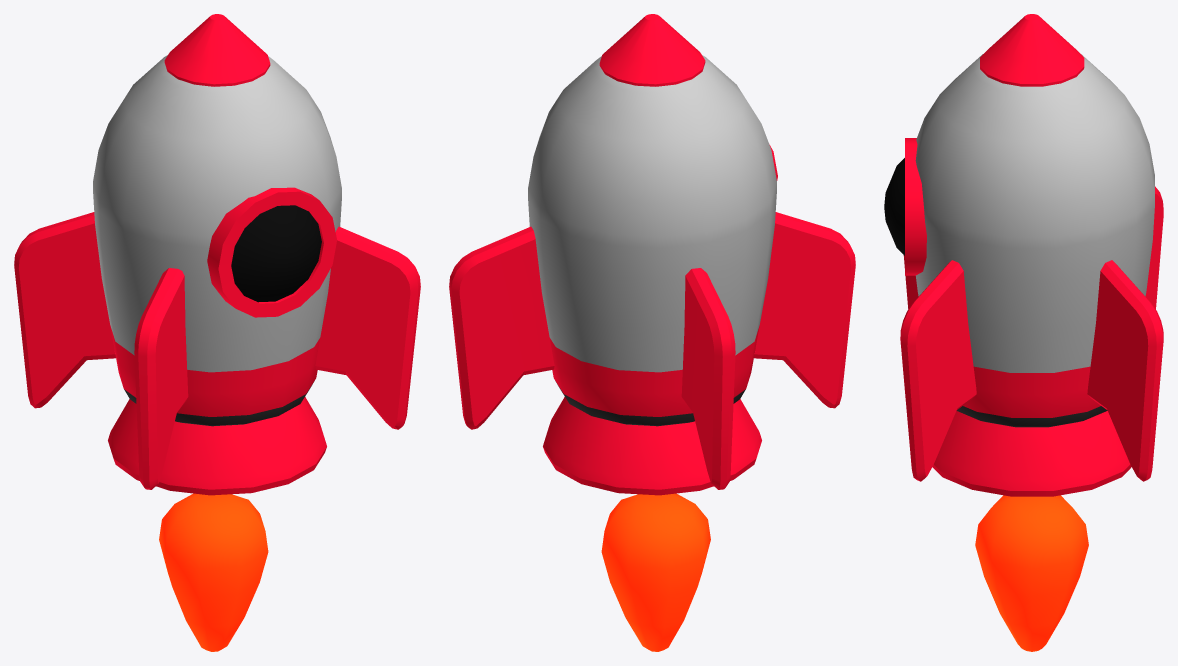
The model's file is RoketRotate.fbx.
The picture shows the model from 3 angles, left to right: view 1: azimuth 30°, elevation 25°; view 2: azimuth 150°, elevation 25°; view 3: azimuth 270°, elevation 25°; orthographic projection.
Parts seen in each view (by area): view 1: Cylinder.004, Circle.003; view 2: Cylinder.004, Circle.003; view 3: Cylinder.004, Circle.003.
Boxes of the visible parts, x1,y1,x2,y2 form: Cylinder.004: [14, 14, 420, 495]; Circle.003: [159, 493, 268, 651]; Cylinder.004: [449, 14, 855, 495]; Circle.003: [601, 493, 710, 651]; Cylinder.004: [884, 14, 1163, 496]; Circle.003: [975, 495, 1088, 651].
Bounding box in the file's own units: 108 × 92.28 × 231.
